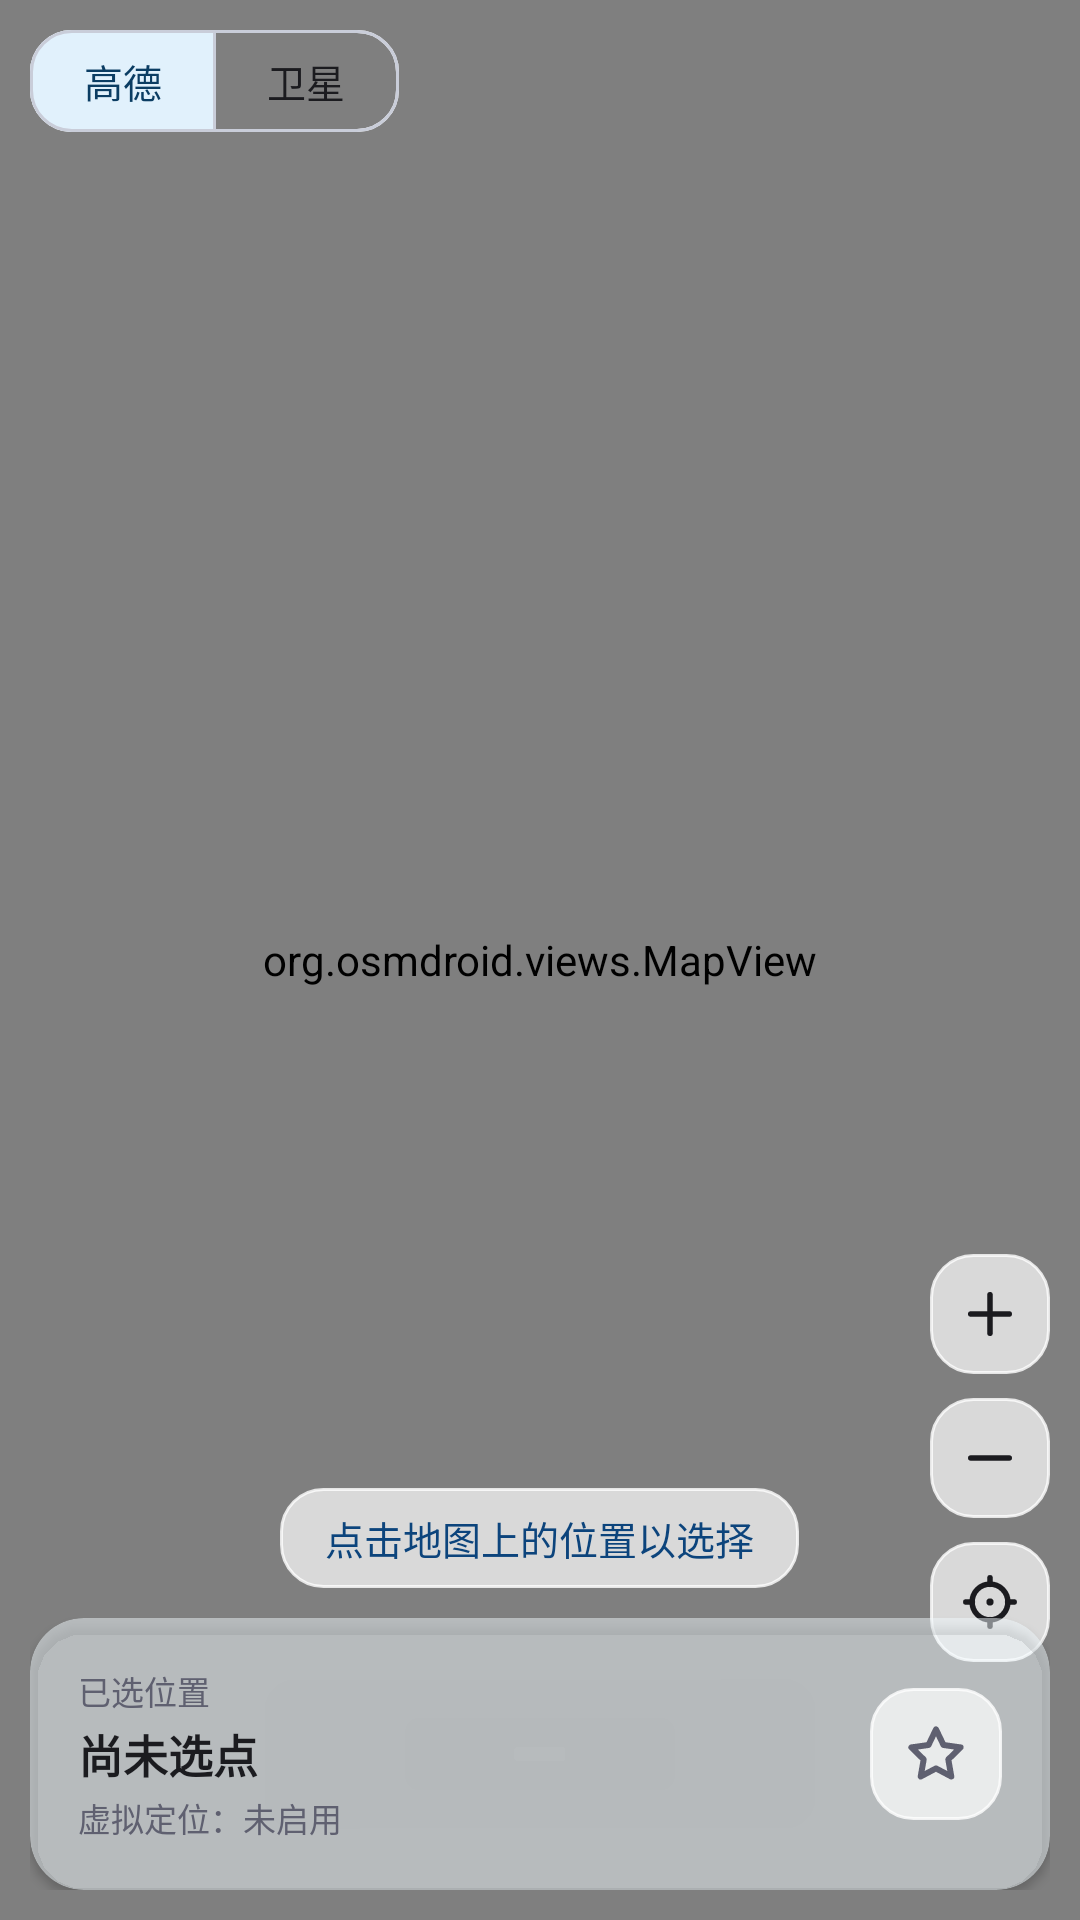

Icon click points for this 1080 x 1920 phone screenshot, format (x,y):
回到已选位置: (990,1602)
收藏该位置: (936,1754)
放大: (990,1314)
缩小: (990,1458)
